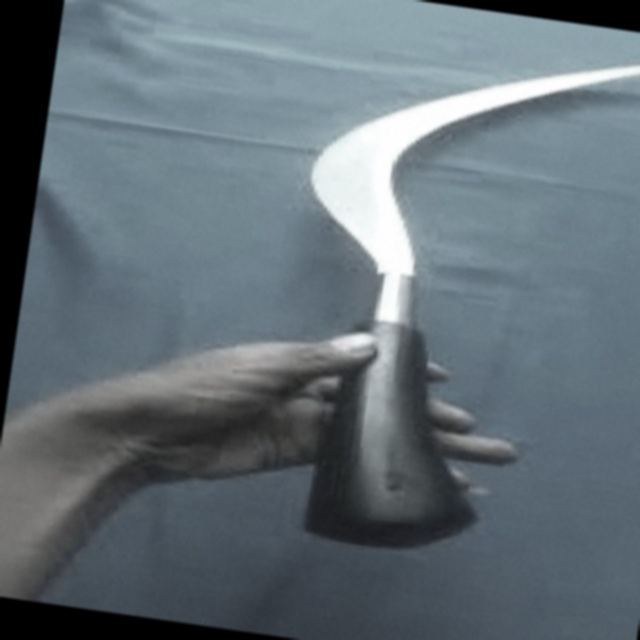Sharp-Object: (215, 3, 640, 600)
